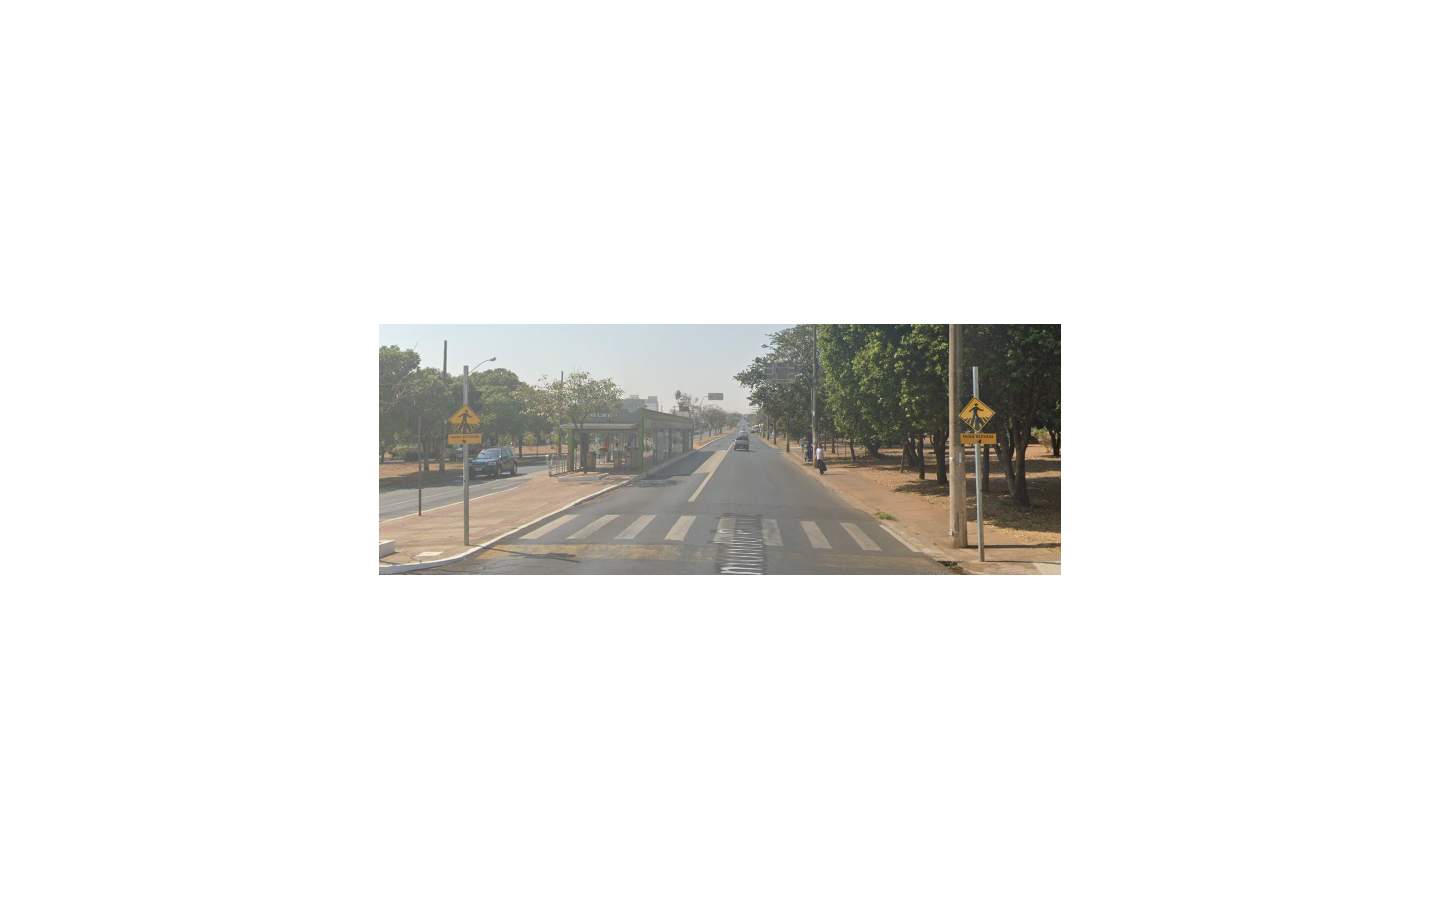telev: (958, 395, 996, 445), (447, 404, 481, 446)
